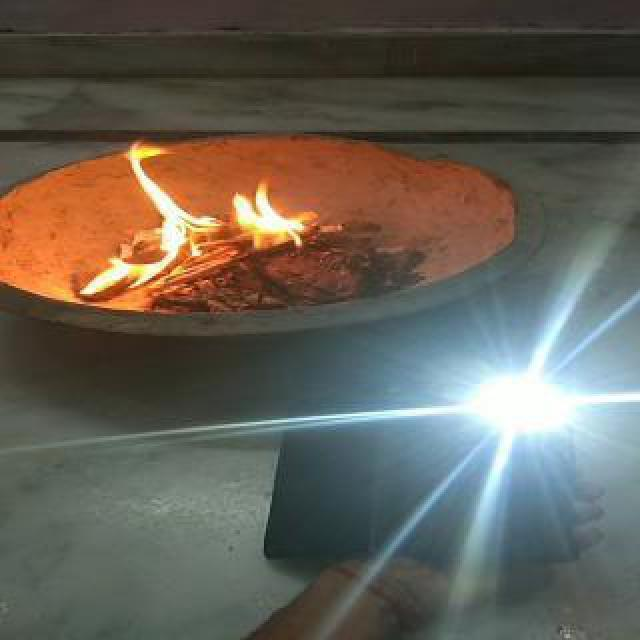Fire: (70, 152, 322, 300)
